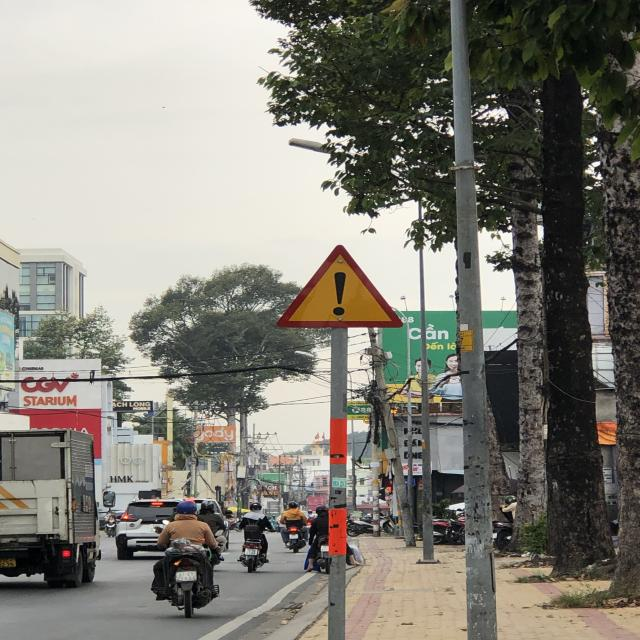Bien bao nguy hiem khac: (273, 241, 406, 331)
